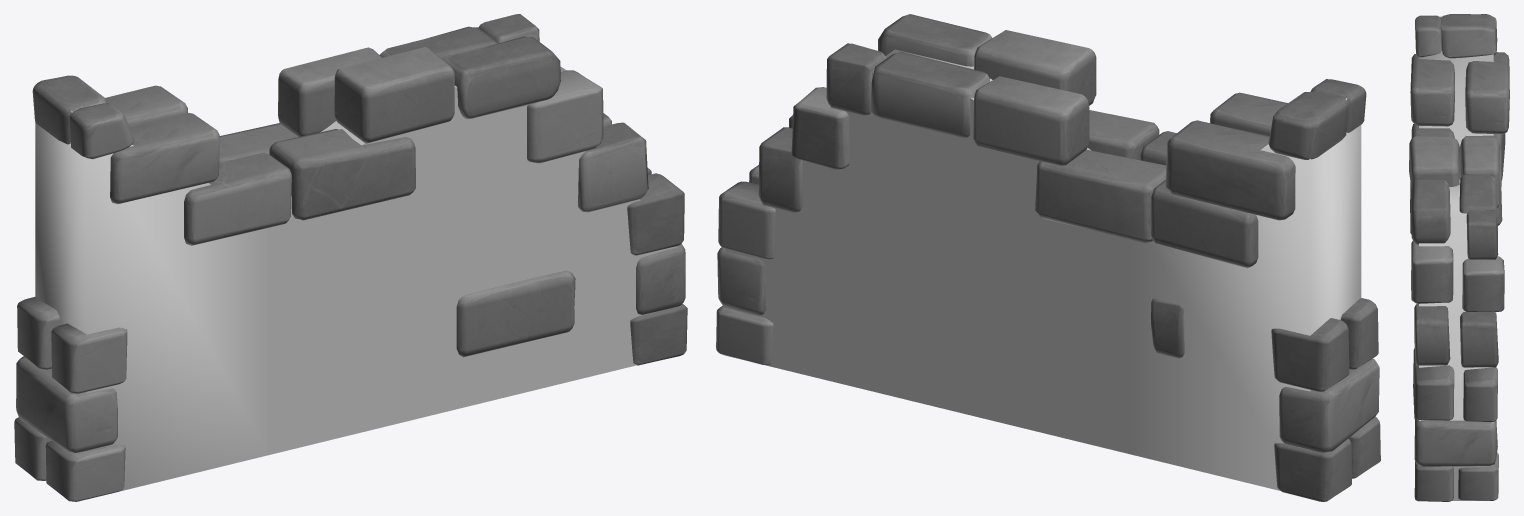
Rendered from SM_Wall_R_Unity.fbx.
The picture shows the model from 3 angles, left to right: view 1: azimuth 30°, elevation 25°; view 2: azimuth 150°, elevation 25°; view 3: azimuth 270°, elevation 25°; orthographic projection. The views are drawn at different scales.
Visible parts, largest first — view 1: SM_Wall_R_Unity_LOD0; view 2: SM_Wall_R_Unity_LOD0; view 3: SM_Wall_R_Unity_LOD0.
Boxes of the visible parts, left/top/right/bottom form: SM_Wall_R_Unity_LOD0: left=14, top=14, right=687, bottom=501; SM_Wall_R_Unity_LOD0: left=716, top=14, right=1380, bottom=501; SM_Wall_R_Unity_LOD0: left=1409, top=14, right=1509, bottom=501.
Size of what is drawn, in the model's own units: 558 by 327 by 108.
